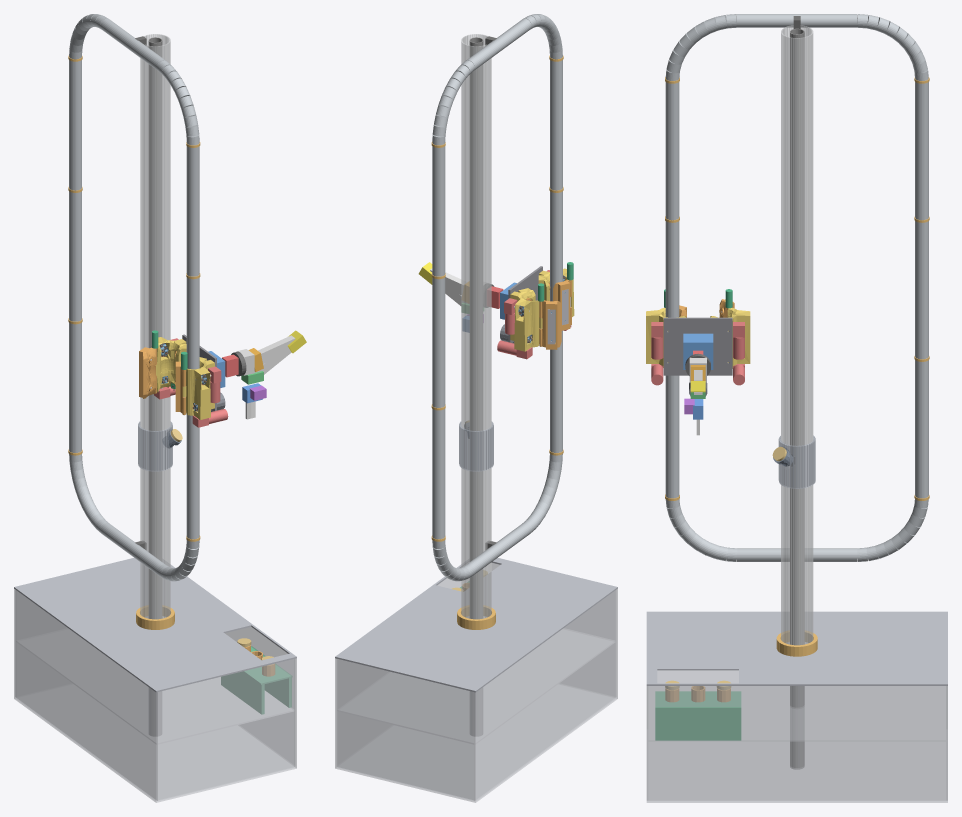
Rendered from transplant-seedling-step4-seat-v9.glb.
3 renders of one model, left to right at view 1: azimuth 30°, elevation 25°; view 2: azimuth 150°, elevation 25°; view 3: azimuth 270°, elevation 25°, orthographic. The views are drawn at different scales.
Size of the model in its own units: 0.4877 by 1.9 by 0.701.
